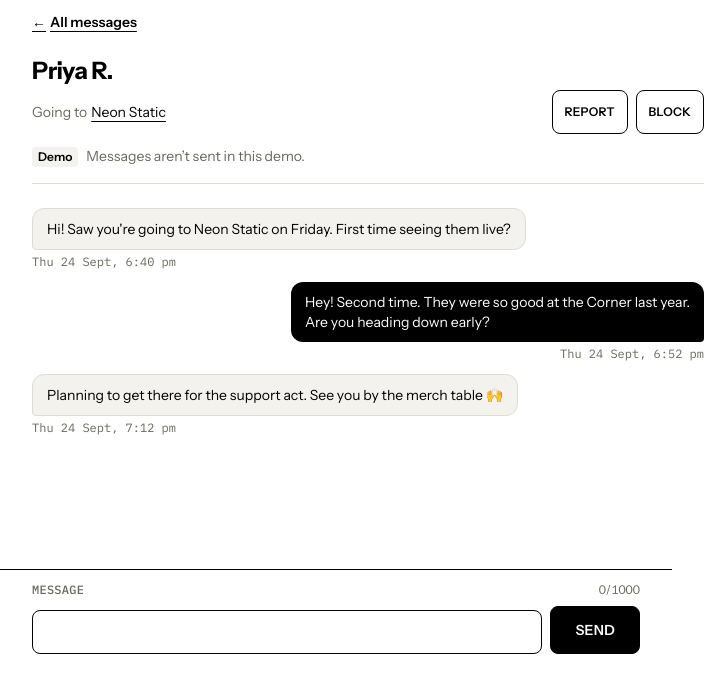
it: /messages/[conversationId] (demo) › shows the sample conversation; sending adds the message to the page only
Expected: the heading "Priya R." is shown, [32,56,113,85]
Expected: the text "Messages aren’t sent in this demo." is shown, [86,147,305,165]
Type "  Save me a spot!  " into the text box named "Message Priya R." at (287, 632), box [32,610,542,654]
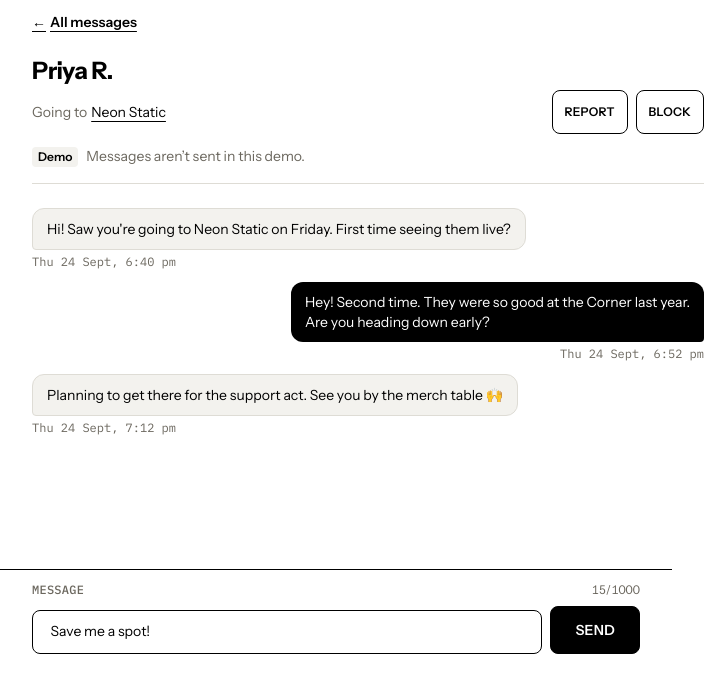
Click the button "Send" at (595, 630), box [550,606,640,654]
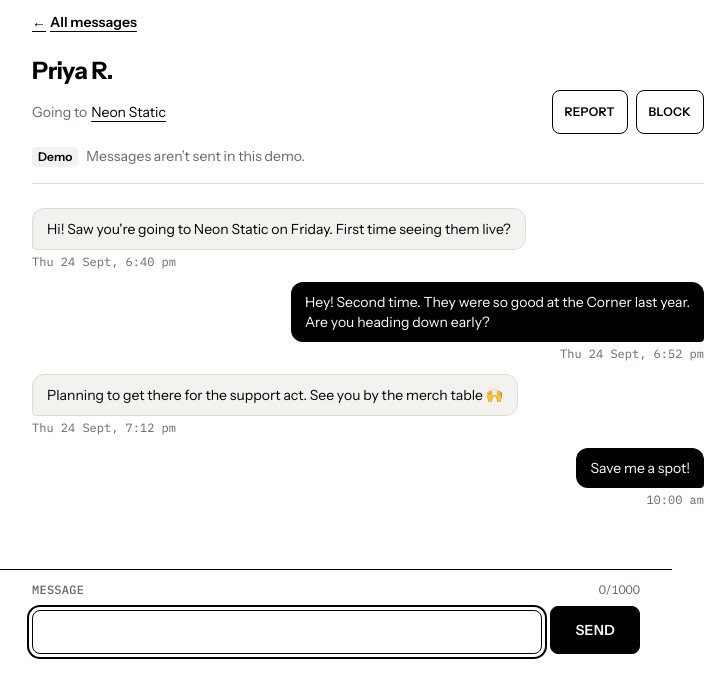
Expected: the number of list items is 4, [32,208,526,270]; [291,282,704,362]; [32,374,518,436]; [576,448,704,508]
Expected: the list item "Save me a spot! 10:00 am" is shown, [576,448,704,508]
Expected: the text box named "Message Priya R." is empty, [32,610,542,654]
